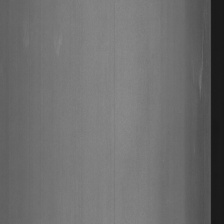silk_spot: (188, 26, 208, 106)
